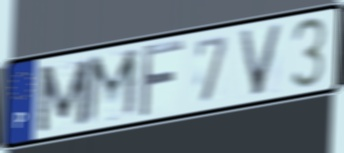3: (289, 15, 328, 92)
7: (192, 33, 230, 105)
F: (137, 38, 187, 121)
M: (83, 45, 140, 129), (35, 56, 92, 135)
V: (236, 22, 286, 99)
